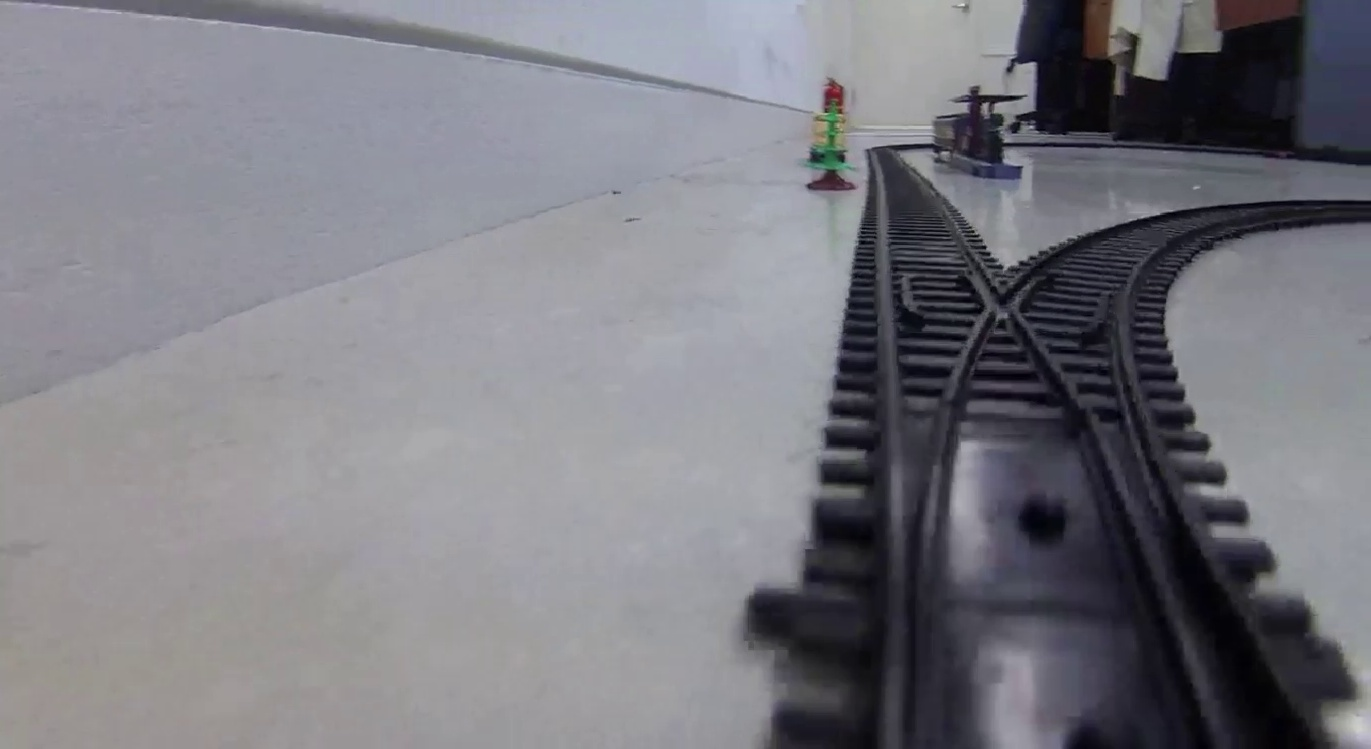tree: (804, 103, 856, 190)
